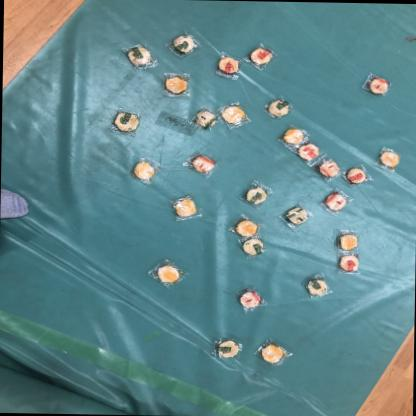green_setoshio: (123, 40, 161, 72), (110, 108, 146, 138), (240, 180, 277, 208), (169, 30, 202, 58), (300, 272, 331, 300), (191, 106, 220, 132), (263, 92, 292, 118), (284, 202, 314, 226), (214, 338, 244, 362), (237, 236, 268, 258)
red_setoshio: (320, 187, 355, 216), (247, 40, 278, 72), (211, 50, 242, 82), (184, 150, 219, 178), (235, 286, 266, 315), (332, 248, 362, 276), (341, 160, 373, 186), (362, 72, 394, 97), (314, 156, 344, 180), (292, 143, 320, 165)
yellow_setoshio: (142, 256, 192, 292), (166, 192, 204, 224), (254, 338, 296, 366), (218, 100, 254, 132), (130, 158, 164, 185), (230, 214, 264, 239), (162, 72, 192, 98), (374, 144, 402, 170), (280, 124, 310, 145), (334, 228, 362, 249)
